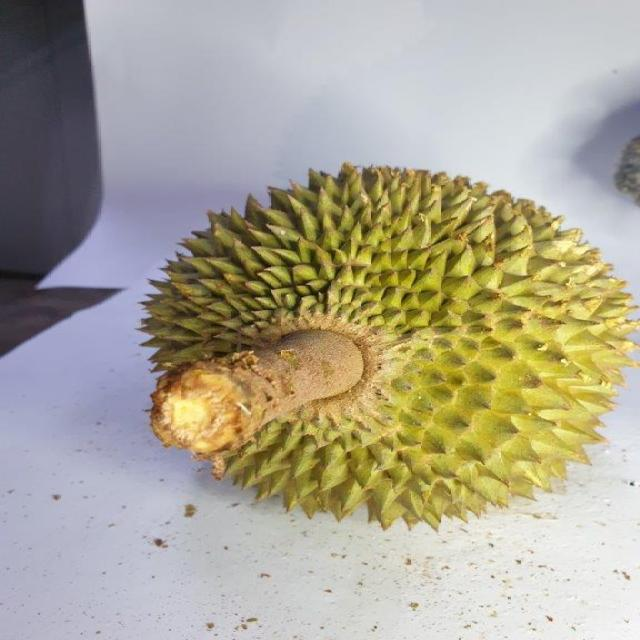immature: (136, 160, 640, 532)
